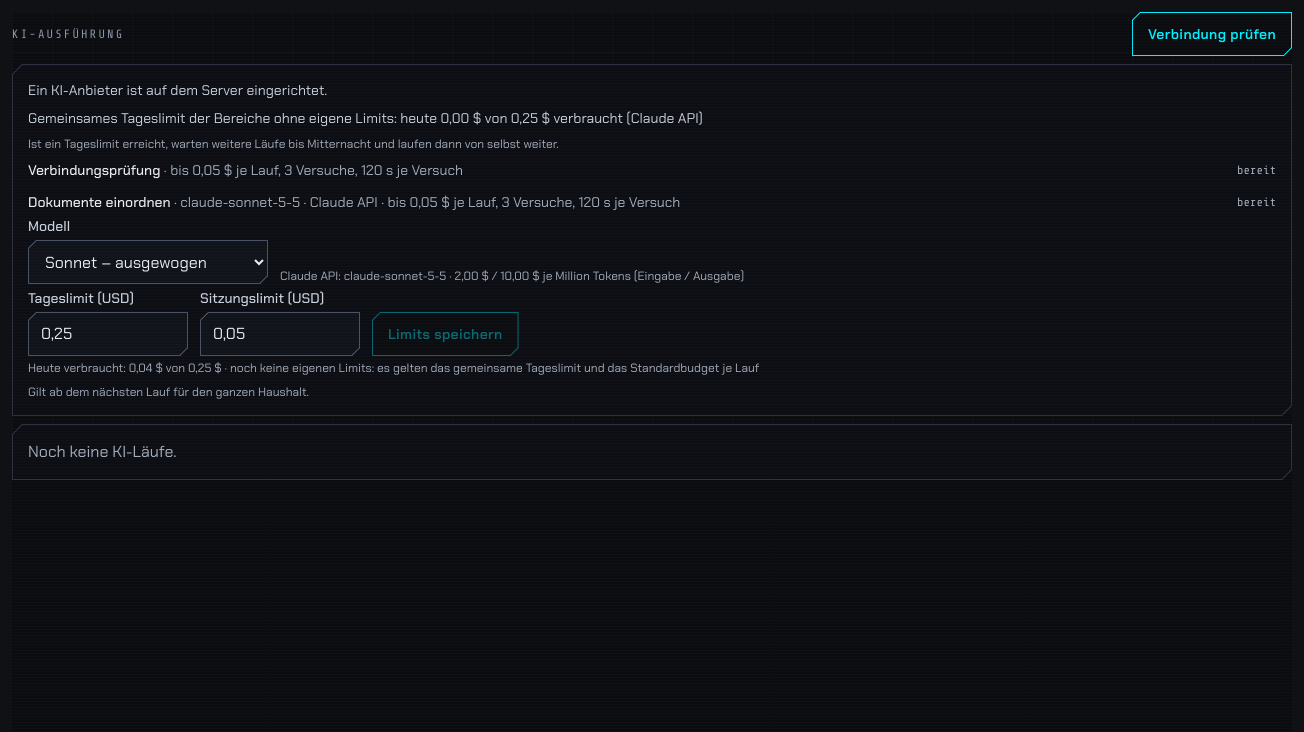
Test: AI cost limits › sends both limits with the version they were based on and shows who changed them
Replace the text in the field with test id "ai-limits-DOCUMENT_CLASSIFICATION-daily" with "2,5" at [108, 334], box [28, 312, 188, 356]
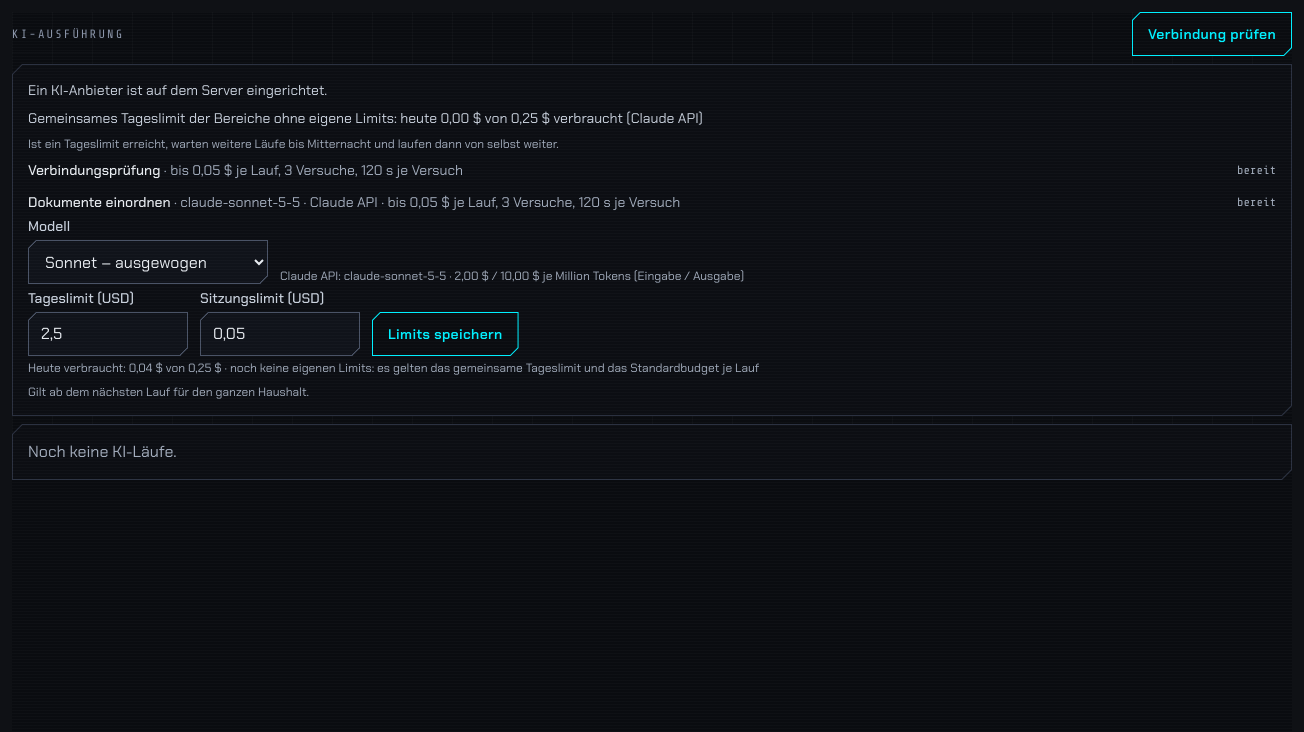
Replace the text in the field with test id "ai-limits-DOCUMENT_CLASSIFICATION-run" with "0.30" at [280, 334], box [200, 312, 360, 356]
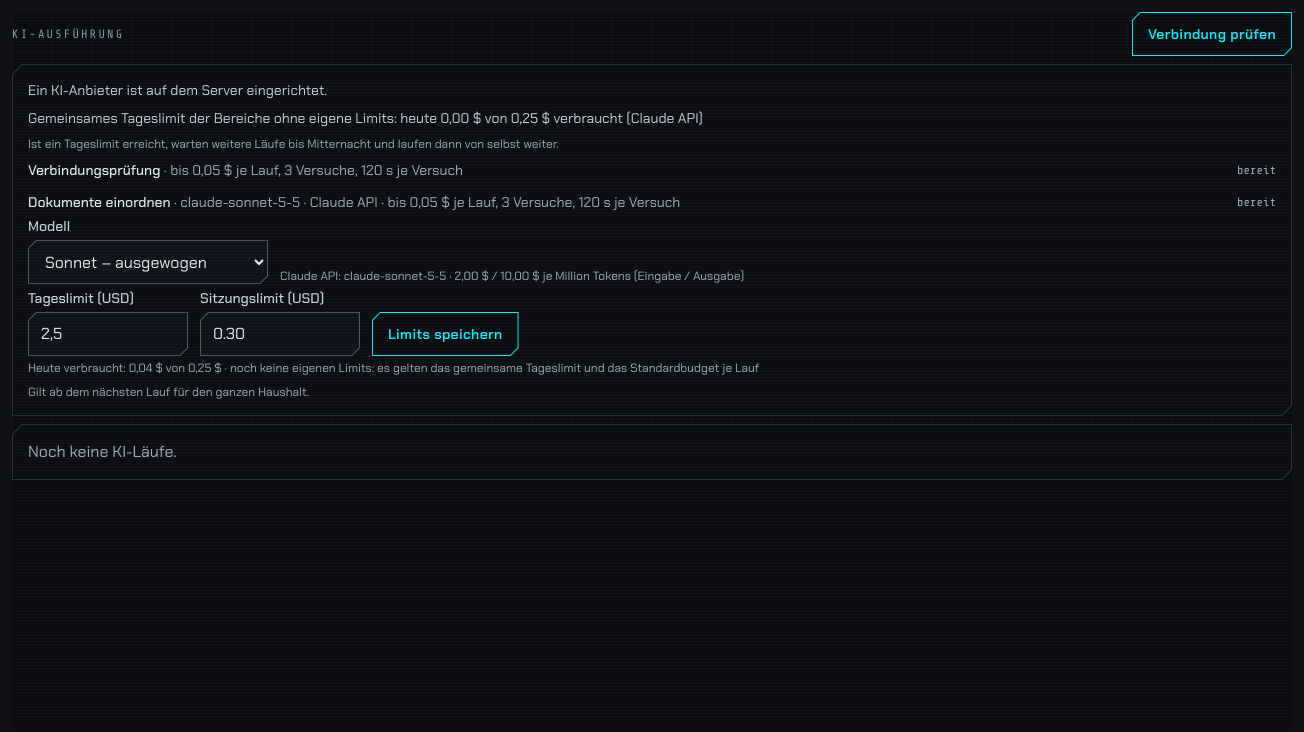
Click the button with test id "ai-limits-DOCUMENT_CLASSIFICATION-save" at [445, 334], box [372, 312, 519, 356]
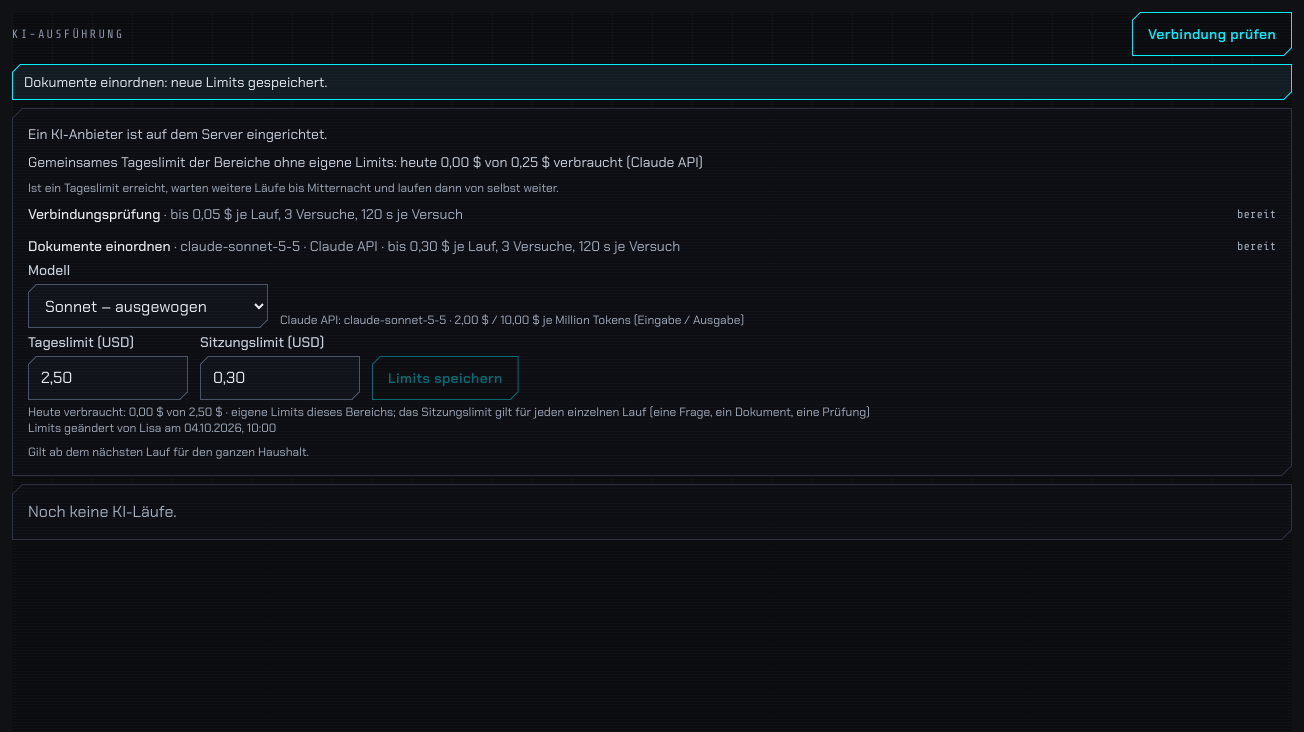
expect the text "Limits geändert von Lisa" is shown: met, box [28, 420, 276, 436]
expect the text "Dokumente einordnen: neue Limits gespeichert." is shown: met, box [24, 73, 327, 91]
expect the field with test id "ai-limits-DOCUMENT_CLASSIFICATION-daily" holds "2,50": met, box [28, 356, 188, 400]
